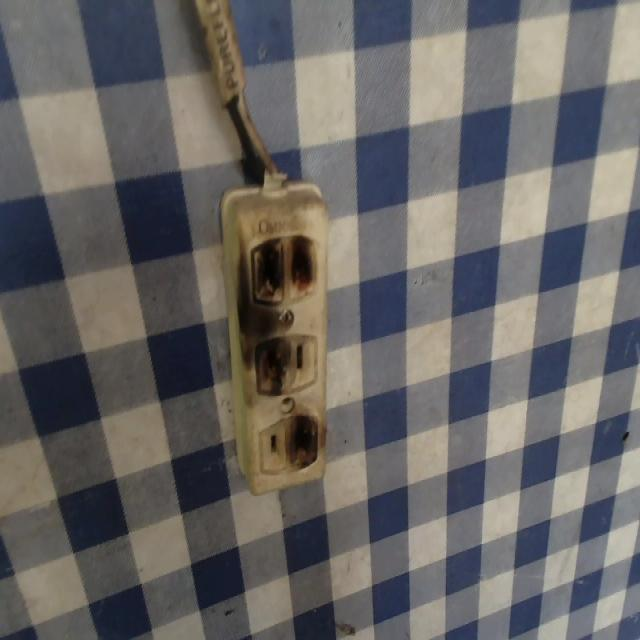-: (246, 232, 320, 309), (250, 323, 296, 405), (279, 412, 320, 476)
